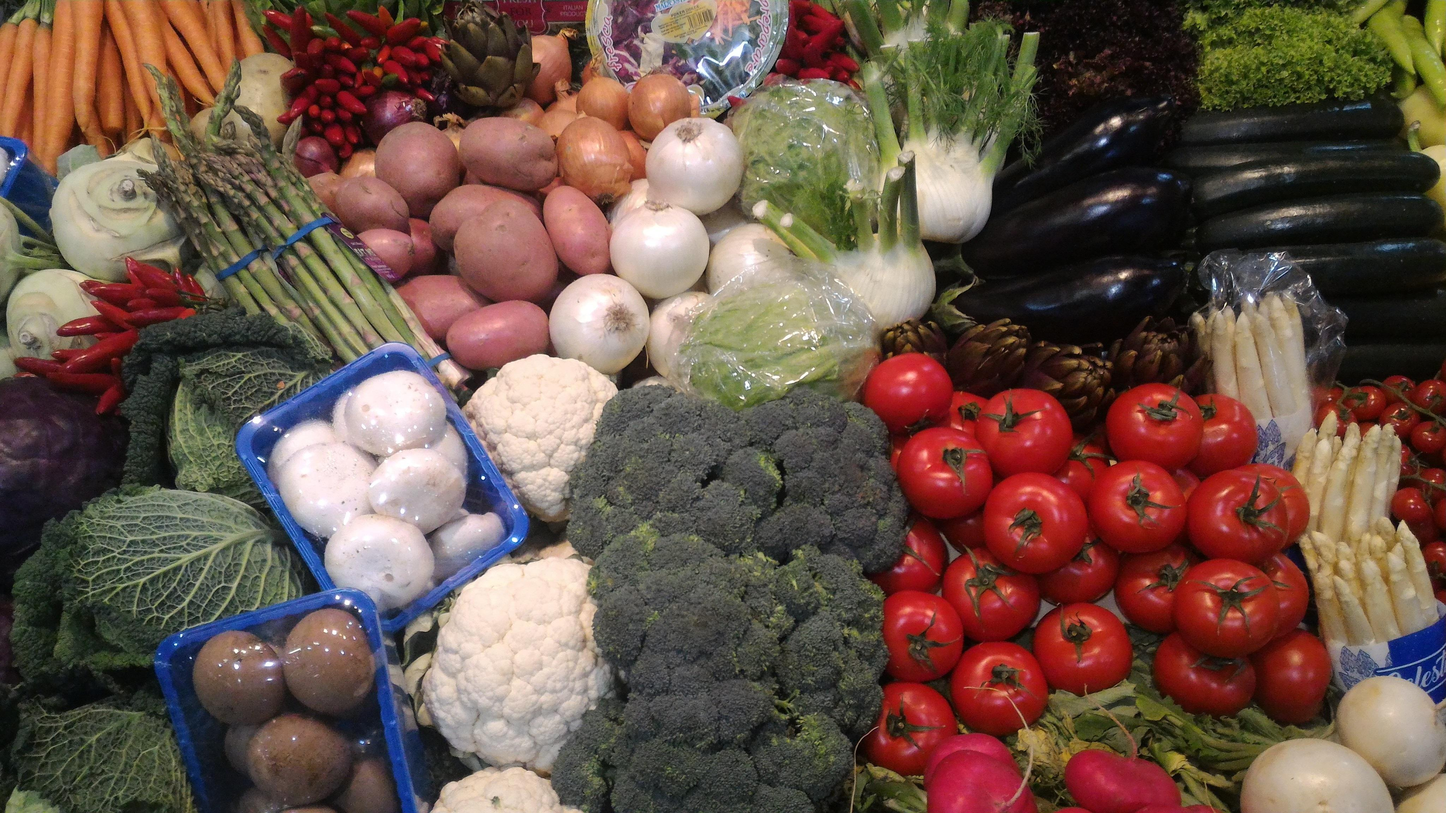brocolli: (558, 299, 931, 813)
carrot: (4, 2, 364, 176)
cauliflower: (413, 547, 640, 755)
onion: (542, 67, 760, 373)
tomato: (842, 313, 1337, 779)
